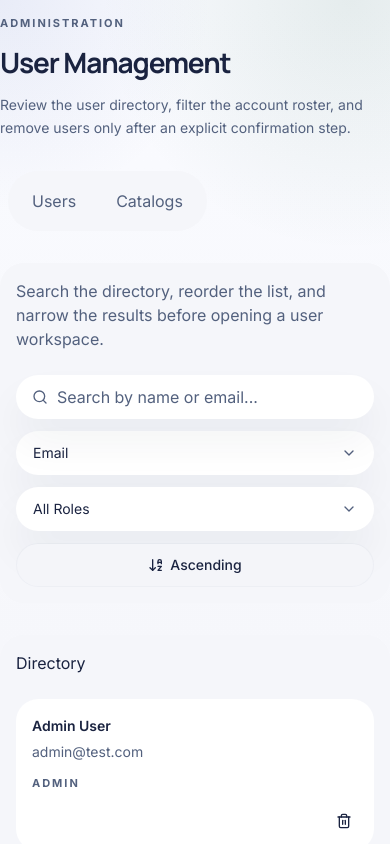
Test: AdminUsersScreen › renders user rows with navigation links and opens the delete dialog
Click the button named "Delete Admin User". click: {"x": 344, "y": 821}
box: [330, 807, 358, 835]
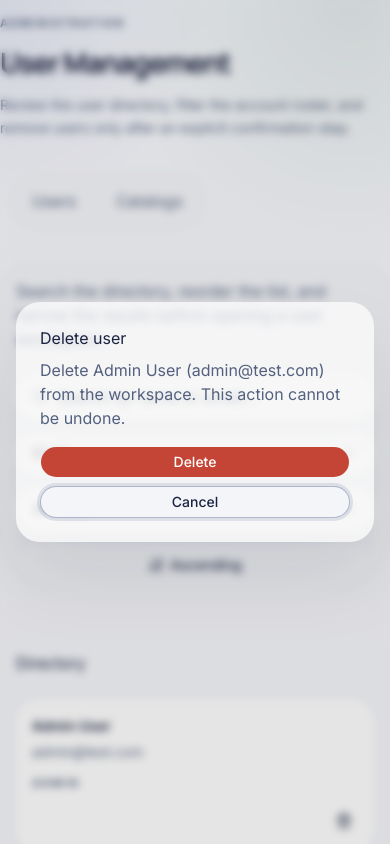
expect the heading "Delete user" is shown: met, box [40, 328, 126, 348]
expect the text "Delete Admin User (admin@test.com)" is shown: met, box [40, 358, 350, 430]
